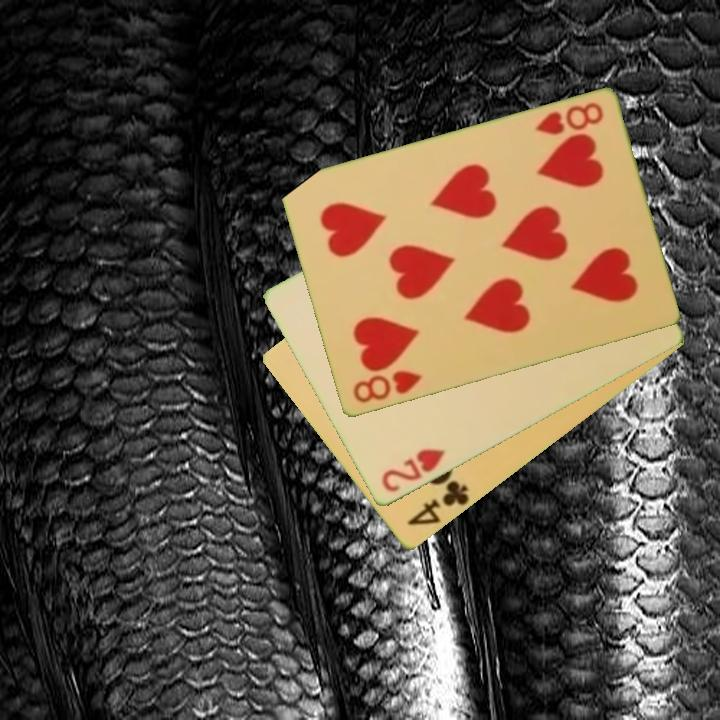2h: (377, 445, 448, 496)
4c: (403, 477, 472, 530)
8h: (349, 367, 425, 407), (531, 99, 606, 139)
